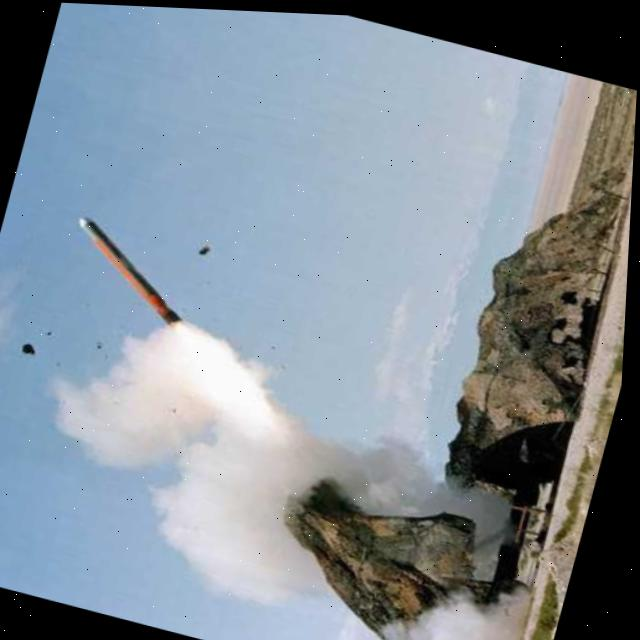missile: (58, 212, 211, 331)
